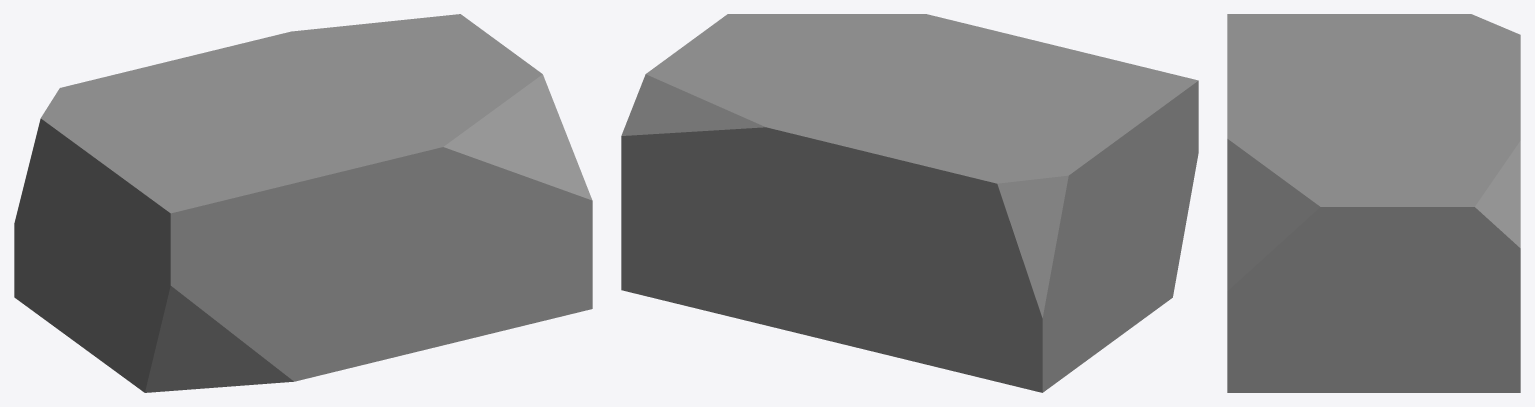
File: Brick_03.fbx
The picture shows the model from 3 angles, left to right: view 1: azimuth 30°, elevation 25°; view 2: azimuth 150°, elevation 25°; view 3: azimuth 270°, elevation 25°; orthographic projection. The views are drawn at different scales.
Visible parts, largest first — view 1: Brick_03; view 2: Brick_03; view 3: Brick_03.
Part boxes in pixels (<box>): Brick_03: <box>14,14,592,392</box>; Brick_03: <box>621,14,1198,392</box>; Brick_03: <box>1227,14,1520,392</box>.
Bounding box in the file's own units: 138 × 61.93 × 88.42.
